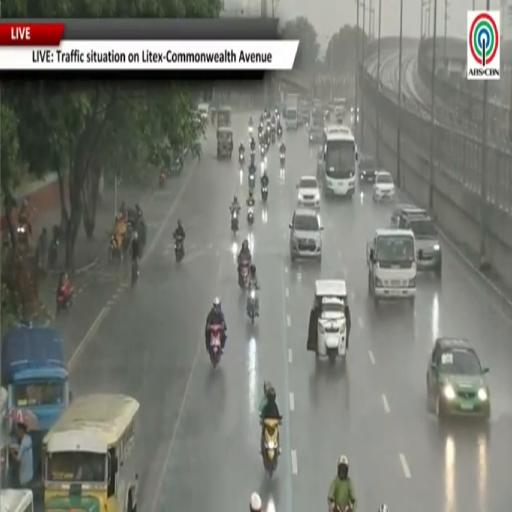bus: (322, 126, 358, 196), (334, 99, 346, 123)
car: (427, 338, 491, 420), (399, 214, 441, 277), (289, 208, 323, 261), (391, 204, 428, 228), (297, 176, 320, 207), (373, 171, 395, 202), (359, 155, 375, 183), (309, 126, 323, 143), (198, 103, 209, 122), (351, 107, 359, 123)
jeepney: (43, 394, 139, 511), (0, 388, 10, 487), (0, 489, 34, 511), (217, 127, 233, 157), (217, 106, 232, 129)
motorcycle: (262, 419, 280, 477), (209, 325, 223, 367), (48, 225, 60, 270), (57, 283, 73, 314), (108, 235, 123, 262), (247, 288, 258, 324), (239, 261, 250, 290), (17, 223, 29, 245), (175, 237, 184, 262), (131, 261, 139, 286), (231, 210, 238, 234), (330, 505, 353, 511), (248, 206, 254, 226), (159, 170, 166, 187), (249, 172, 255, 189), (261, 186, 267, 202), (261, 141, 266, 157), (280, 153, 285, 168), (277, 125, 282, 139), (239, 152, 244, 165), (251, 150, 255, 165), (249, 125, 253, 138), (271, 131, 275, 142)
truck: (0, 323, 71, 475), (285, 93, 299, 130)
